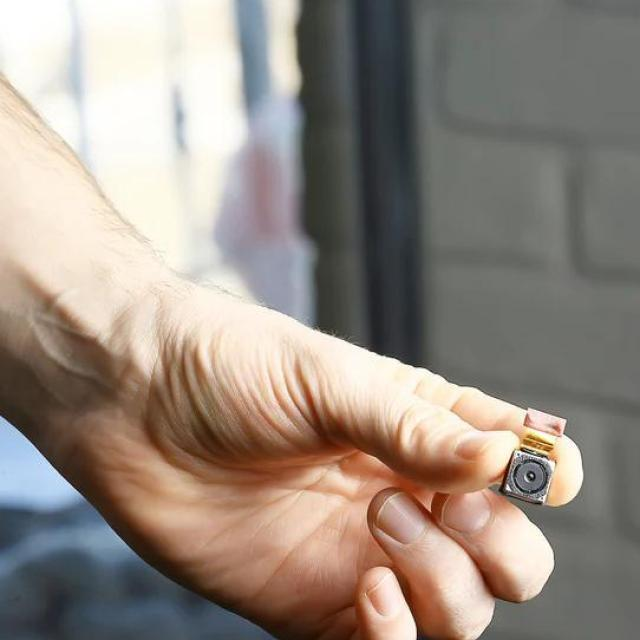hidden camera: (511, 456, 549, 497)
